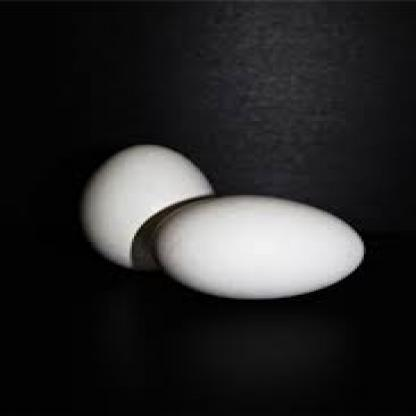egg: (157, 194, 368, 303), (83, 143, 219, 272)
